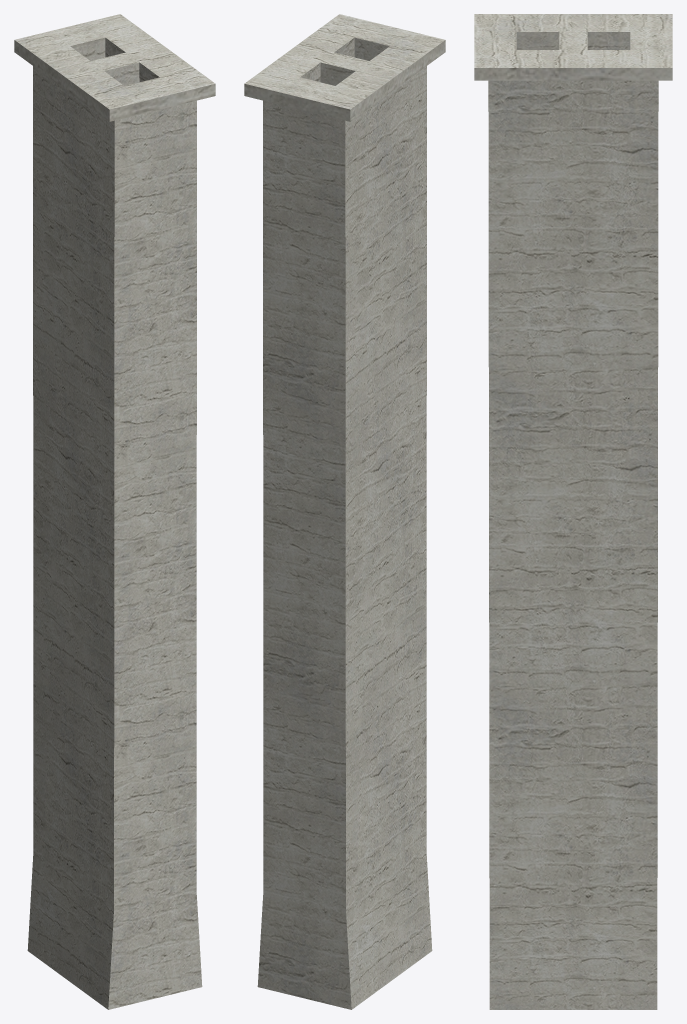
File: Schouw_A.fbx
3 views of the same model, side by side, from view 1: azimuth 30°, elevation 25°; view 2: azimuth 150°, elevation 25°; view 3: azimuth 270°, elevation 25° (orthographic). The views are drawn at different scales.
Visible parts, largest first — view 1: Schouw; view 2: Schouw; view 3: Schouw.
Boxes of the visible parts, x1,y1,x2,y2 form: Schouw: (14,14,215,1009); Schouw: (244,14,445,1009); Schouw: (474,14,672,1009).
Size of the model in its own units: 89.99 by 736 by 140.
